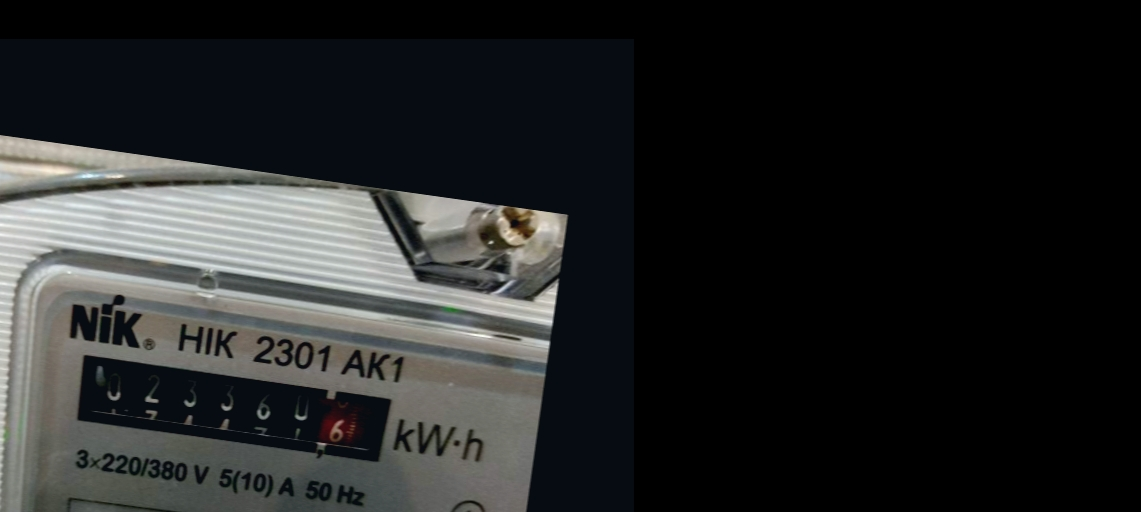0: (101, 368, 127, 403), (291, 390, 312, 423)
2: (139, 370, 167, 407)
3: (177, 375, 202, 410), (216, 380, 239, 413)
6: (251, 388, 275, 422), (324, 413, 349, 444)
screen: (54, 335, 407, 480)
